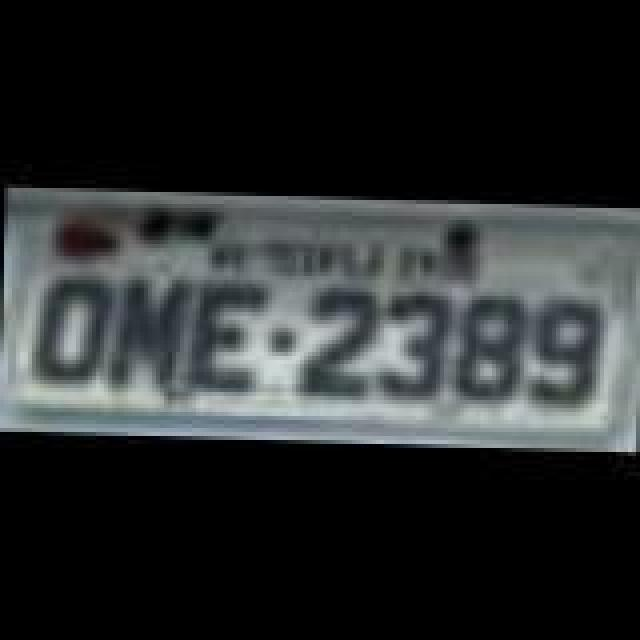2: (298, 286, 382, 402)
3: (374, 290, 450, 406)
8: (444, 292, 532, 404)
9: (526, 290, 602, 406)
E: (182, 278, 274, 402)
N: (104, 272, 184, 400)
O: (32, 272, 112, 384)
